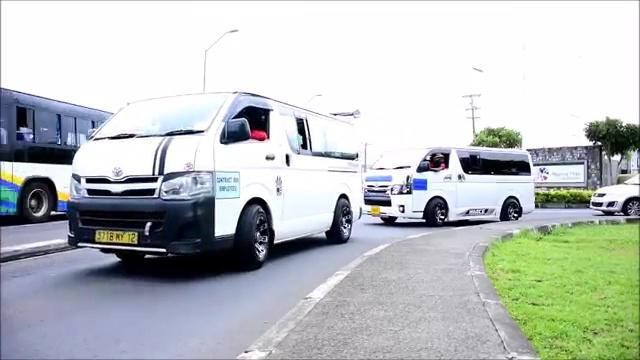Van: (66, 96, 364, 263), (365, 147, 538, 229)
